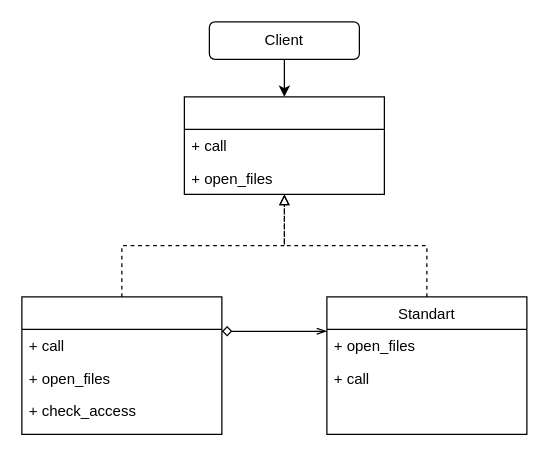
The diagram is 549 pixels wide and 456 high, and some of its shapes have lost their labels. The shapes that lost their labels are listed below. From the top down, each one's box as (x1, y1, x2, y2) in pixels, then its label:
(183, 96, 384, 194): Phone
(21, 296, 222, 434): Pass
